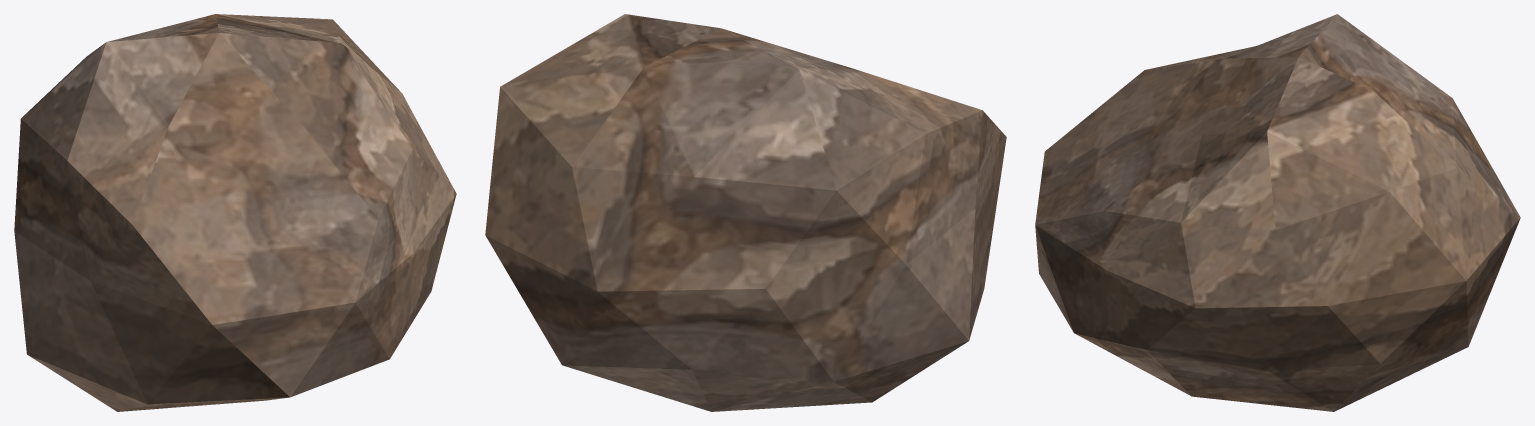
Rendered from rock-m-round.glb.
The picture shows the model from 3 angles, left to right: view 1: azimuth 30°, elevation 25°; view 2: azimuth 150°, elevation 25°; view 3: azimuth 270°, elevation 25°; orthographic projection. The views are drawn at different scales.
Parts seen in each view (by area): view 1: rock-m-round; view 2: rock-m-round; view 3: rock-m-round.
Part boxes in pixels (<box>): rock-m-round: <box>14,14,456,411</box>; rock-m-round: <box>485,14,1006,411</box>; rock-m-round: <box>1035,14,1520,411</box>.
Bounding box in the file's own units: 1.75 × 1.4 × 1.89.
1 material, 1 textured.
